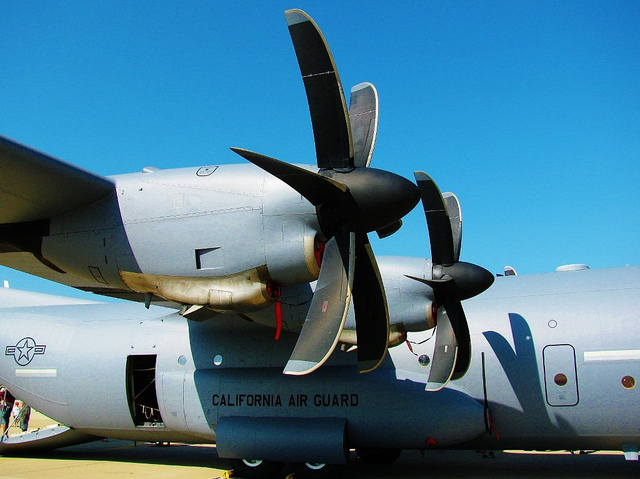Propeller: (416, 167, 492, 400)
